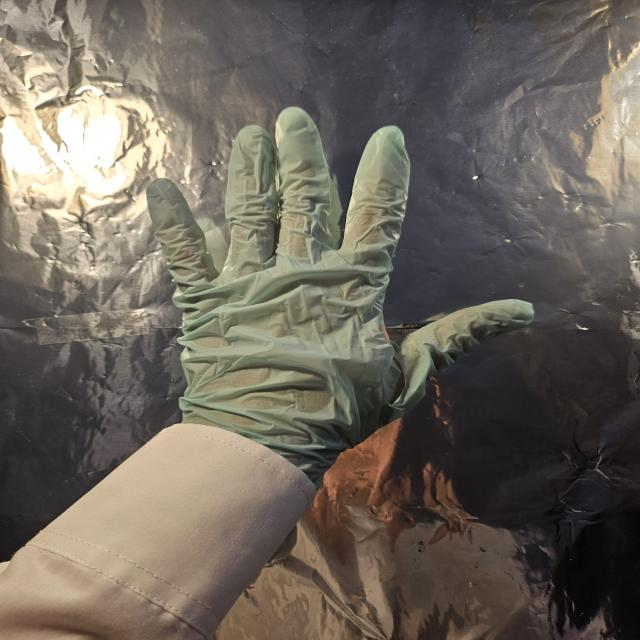gloves_damaged: (131, 103, 547, 474)
